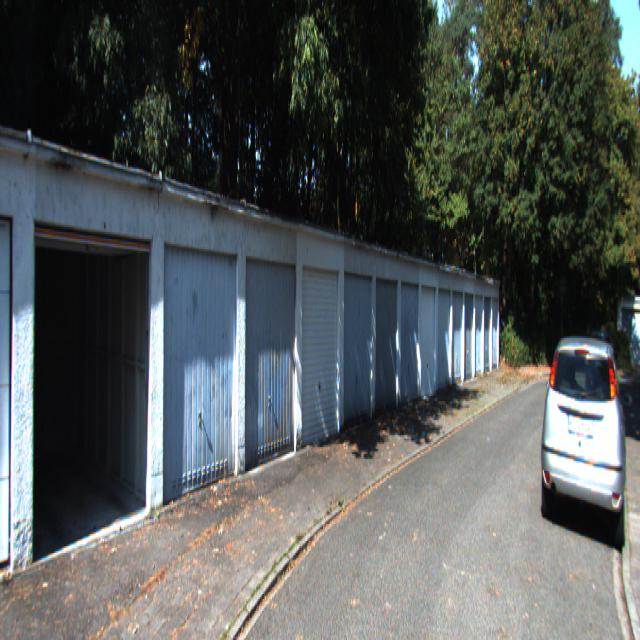Car: (543, 330, 628, 547)
